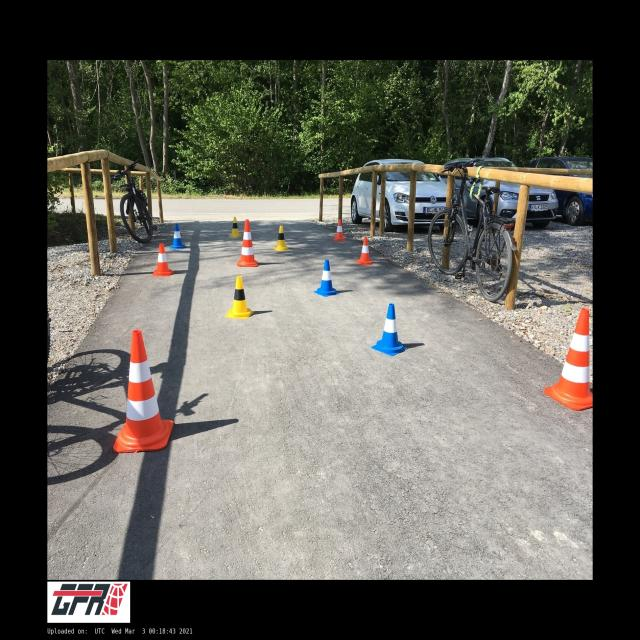blue_cone: (372, 303, 407, 356), (314, 260, 340, 296), (169, 223, 186, 249)
large_orange_cone: (113, 329, 174, 452), (544, 308, 592, 411), (237, 220, 258, 266)
orange_cone: (152, 243, 175, 276), (355, 237, 375, 265), (332, 219, 346, 241)
yellow_cone: (225, 276, 254, 318), (272, 225, 290, 250), (228, 217, 242, 237)
